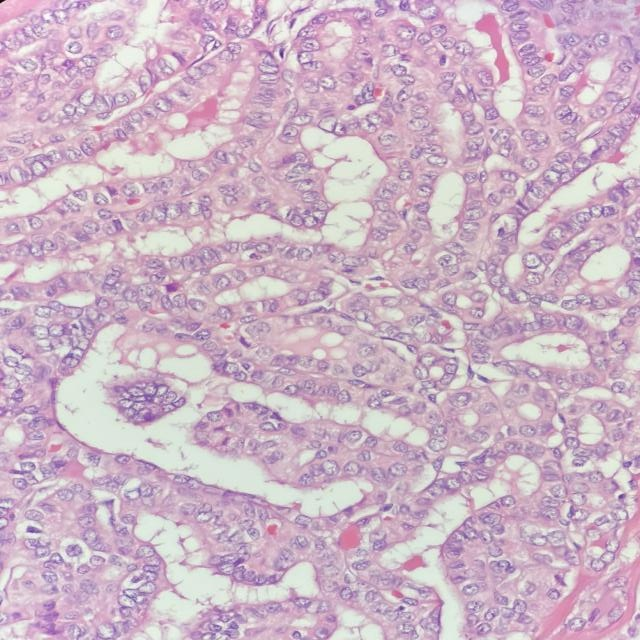TC: (444, 387, 479, 416), (401, 213, 437, 236), (458, 204, 492, 225), (328, 387, 359, 409), (351, 339, 381, 361), (372, 291, 401, 312), (292, 244, 317, 268), (344, 362, 375, 381), (336, 255, 366, 274), (201, 243, 223, 268), (340, 427, 370, 445), (294, 186, 321, 206), (319, 458, 344, 479), (208, 271, 233, 292), (409, 361, 431, 384), (412, 182, 443, 198), (304, 286, 330, 305), (250, 194, 276, 212), (439, 289, 461, 310), (260, 296, 281, 317), (200, 408, 224, 426), (421, 410, 444, 428), (294, 354, 318, 370), (426, 436, 450, 452), (222, 361, 241, 381), (298, 380, 321, 396), (435, 253, 457, 269), (250, 423, 282, 434), (438, 361, 465, 374), (355, 450, 376, 465)
